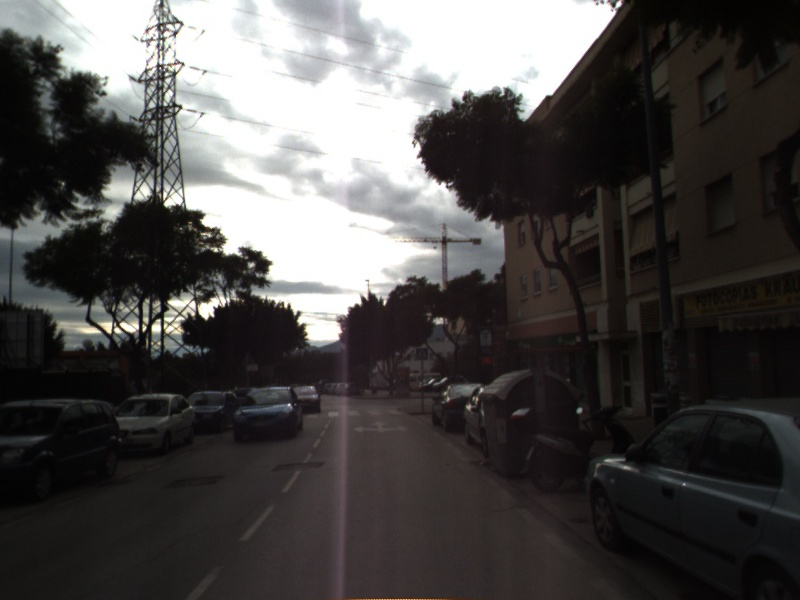STRAIGHT_LEFT_RIGHT: (351, 419, 411, 435)
